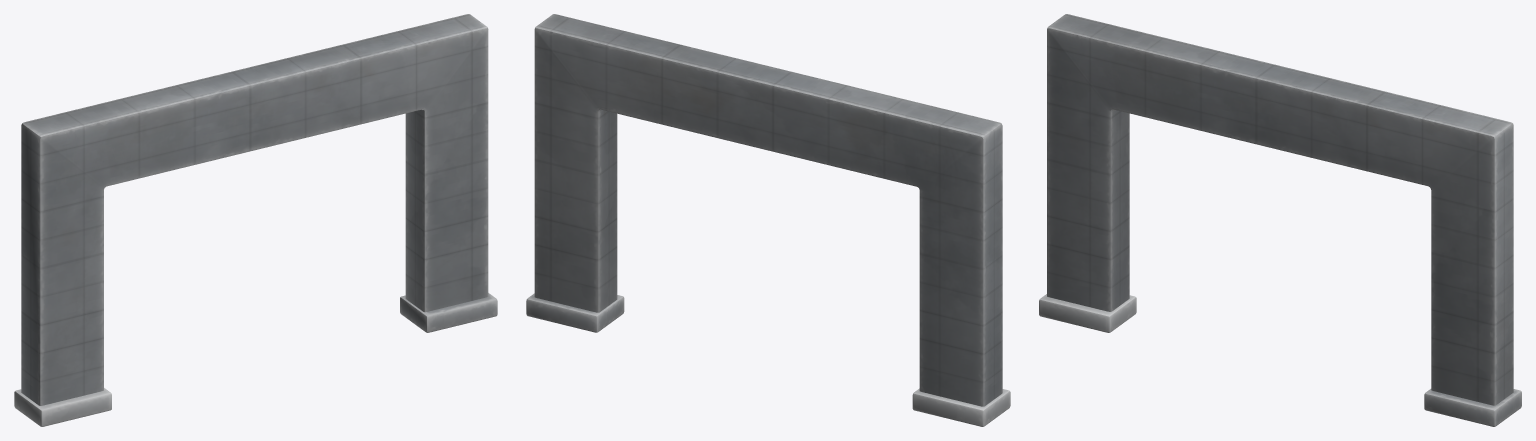
The model's file is anime-wall-fence.glb.
The picture shows the model from 3 angles, left to right: view 1: azimuth 30°, elevation 25°; view 2: azimuth 150°, elevation 25°; view 3: azimuth 330°, elevation 25°; orthographic projection.
Parts seen in each view (by area): view 1: anime-wall-fence; view 2: anime-wall-fence; view 3: anime-wall-fence.
Part boxes in pixels (bbox=[...]): anime-wall-fence: bbox=[14, 14, 497, 426]; anime-wall-fence: bbox=[526, 14, 1010, 426]; anime-wall-fence: bbox=[1039, 14, 1521, 426].
Size of the model in its own units: 3.02 by 1.82 by 0.3184.
1 material, 1 textured.
